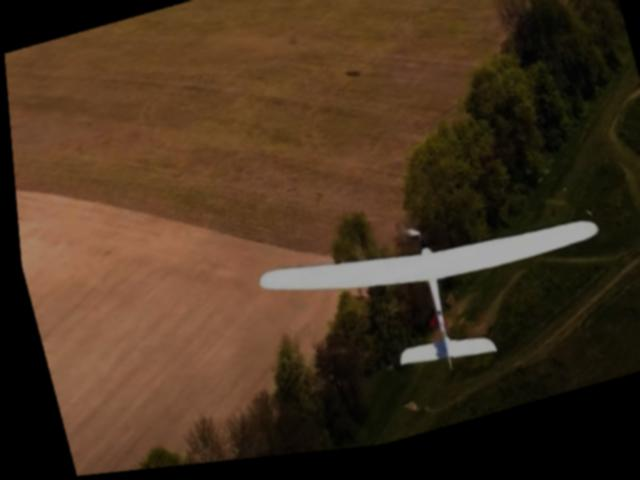iha: (246, 186, 611, 416)
